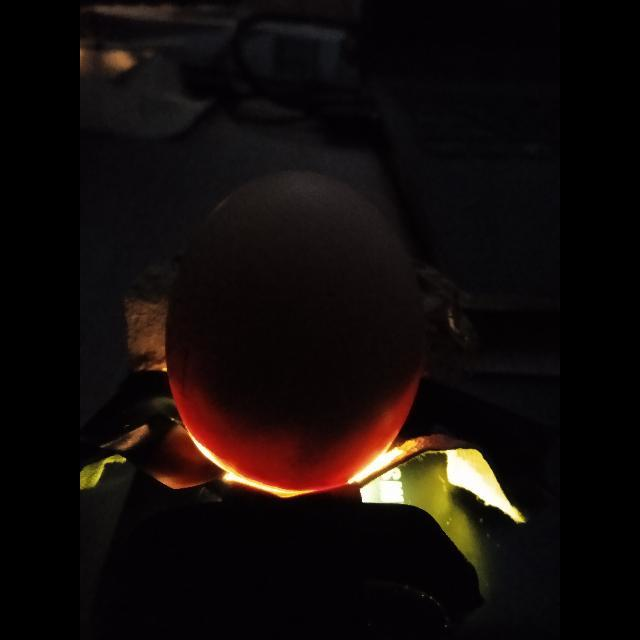Fertile: (160, 170, 436, 494)
